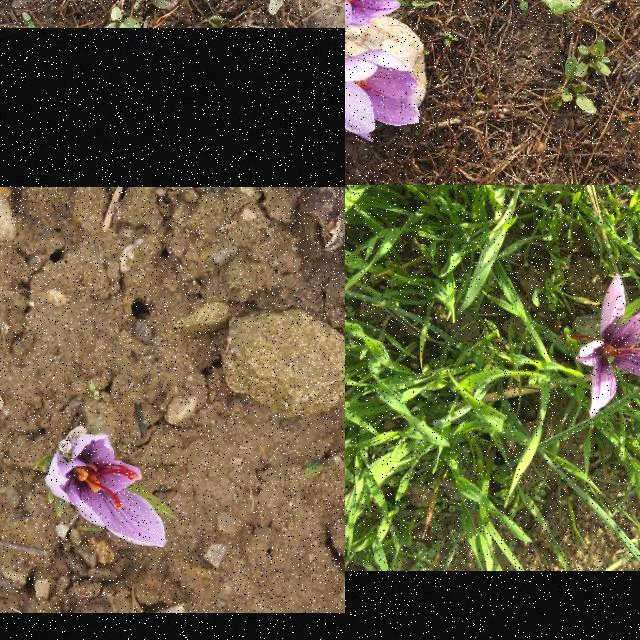flower: (47, 432, 166, 548), (560, 275, 640, 419), (345, 51, 419, 141), (345, 0, 408, 25)
